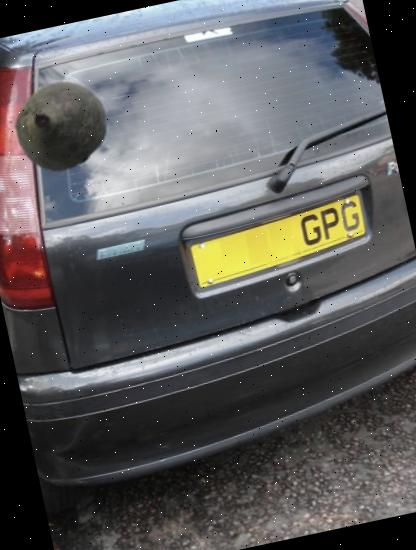Beetroot: (3, 67, 118, 181)
